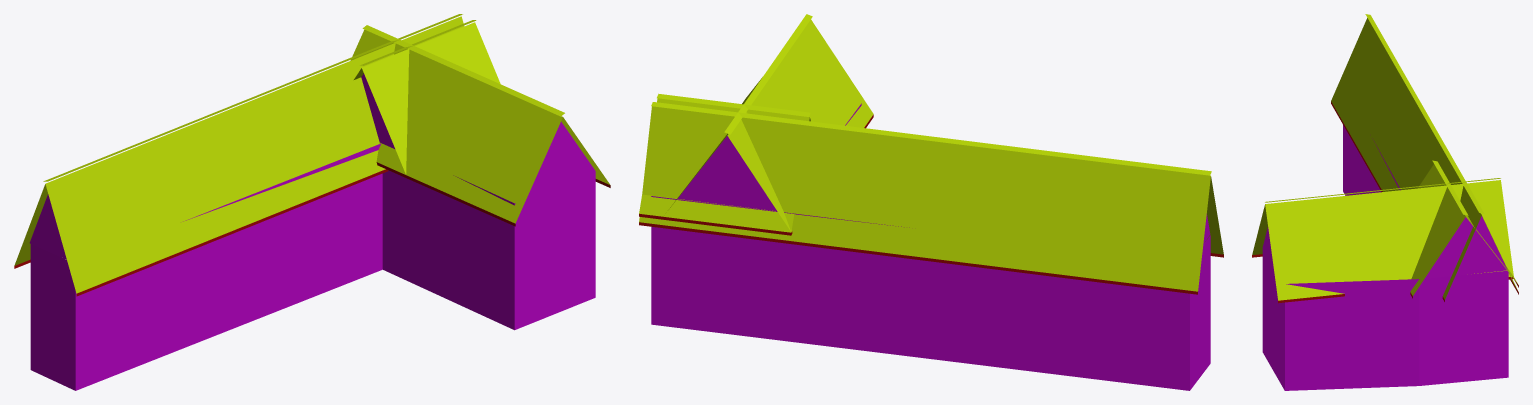
Rendered from scl_72.glb.
3 renders of one model, left to right at view 1: azimuth 30°, elevation 25°; view 2: azimuth 150°, elevation 25°; view 3: azimuth 270°, elevation 25°, orthographic. The views are drawn at different scales.
Parts seen in each view (by area): view 1: scl_72; view 2: scl_72; view 3: scl_72.
Boxes of the visible parts, x1,y1,x2,y2 form: scl_72: (14, 14, 610, 390); scl_72: (639, 14, 1223, 390); scl_72: (1252, 14, 1518, 390).
Bounding box in the file's own units: 22.34 × 8.32 × 11.75.
